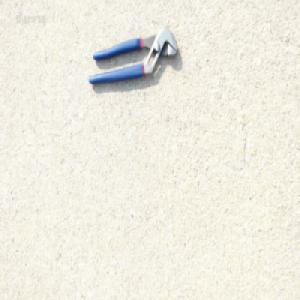Pliers: (87, 25, 178, 85)
